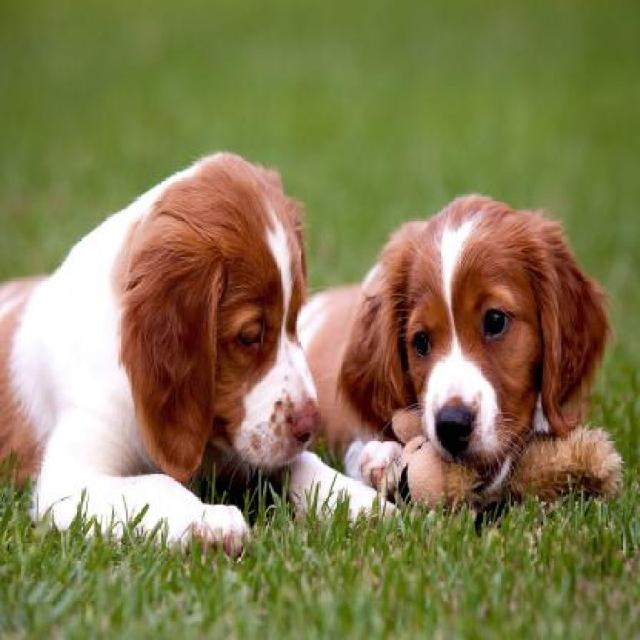animals: (18, 138, 364, 582), (343, 119, 625, 558)
